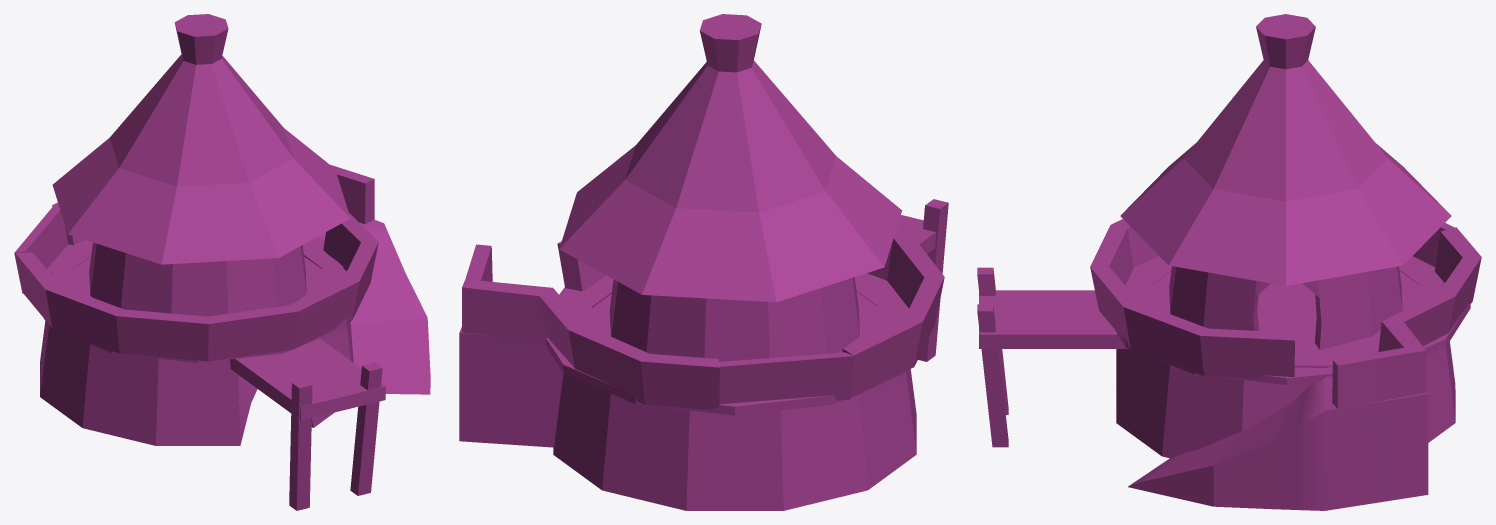
Rendered from SM_Bld_Barracks_01_Collision.fbx.
3 renders of one model, left to right at view 1: azimuth 30°, elevation 25°; view 2: azimuth 150°, elevation 25°; view 3: azimuth 270°, elevation 25°, orthographic. The views are drawn at different scales.
Parts seen in each view (by area): view 1: SM_Bld_Barracks_01_Collision; view 2: SM_Bld_Barracks_01_Collision; view 3: SM_Bld_Barracks_01_Collision.
Boxes of the visible parts, <box> form: SM_Bld_Barracks_01_Collision: <box>14,14,430,510</box>; SM_Bld_Barracks_01_Collision: <box>459,14,948,510</box>; SM_Bld_Barracks_01_Collision: <box>977,14,1481,510</box>.
Size of the model in its own units: 1328 by 1315 by 1491.
